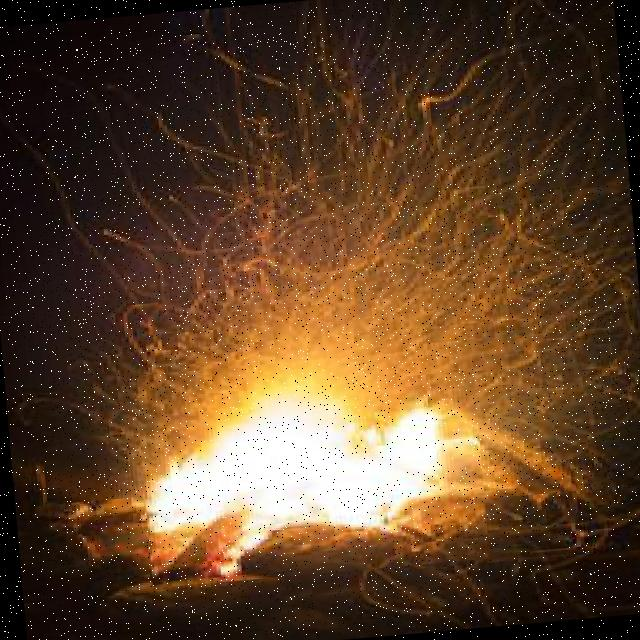fire: (134, 346, 490, 588)
